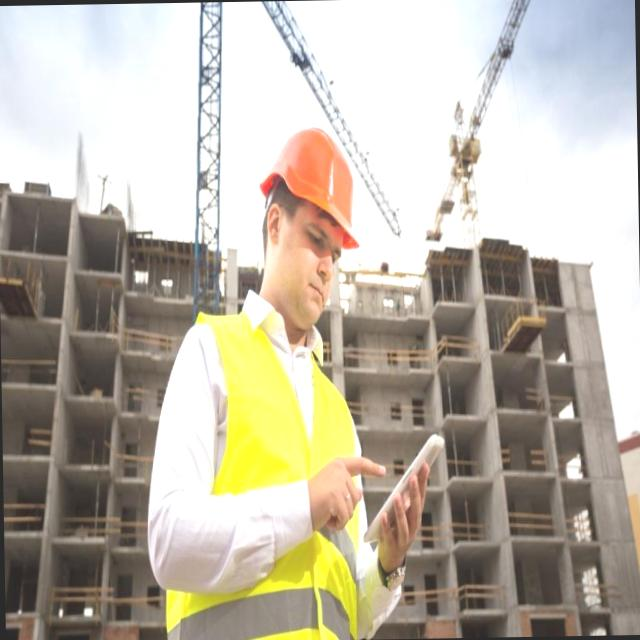helmet: (258, 124, 360, 262)
vest: (196, 293, 375, 640)
